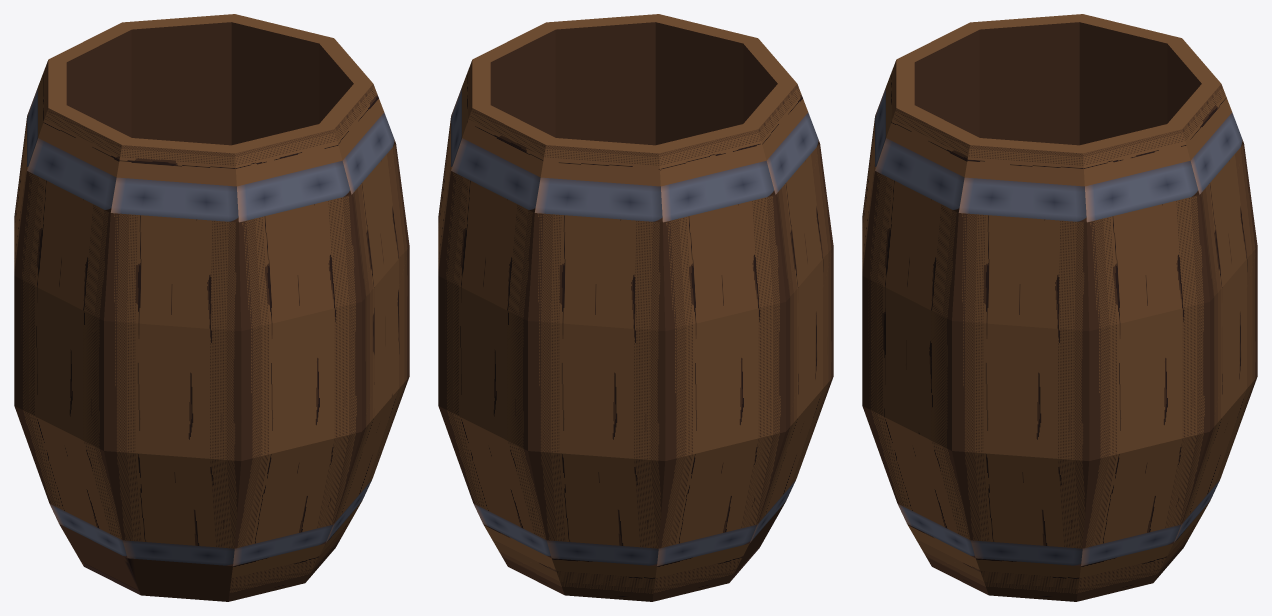
The model's file is Escenario.fbx.
3 views of the same model, side by side, from view 1: azimuth 30°, elevation 25°; view 2: azimuth 150°, elevation 25°; view 3: azimuth 270°, elevation 25° (orthographic).
Visible parts, largest first — view 1: Circle; view 2: Circle; view 3: Circle.
Part boxes in pixels (x1,y1,x2,y2): Circle: (14, 14, 409, 601); Circle: (438, 14, 833, 601); Circle: (862, 14, 1257, 601).
Bounding box in the file's own units: 309 × 304 × 394.
Materials: 1 (1 with a texture image).
